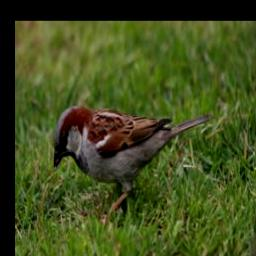Sparrow: (51, 103, 212, 227)
